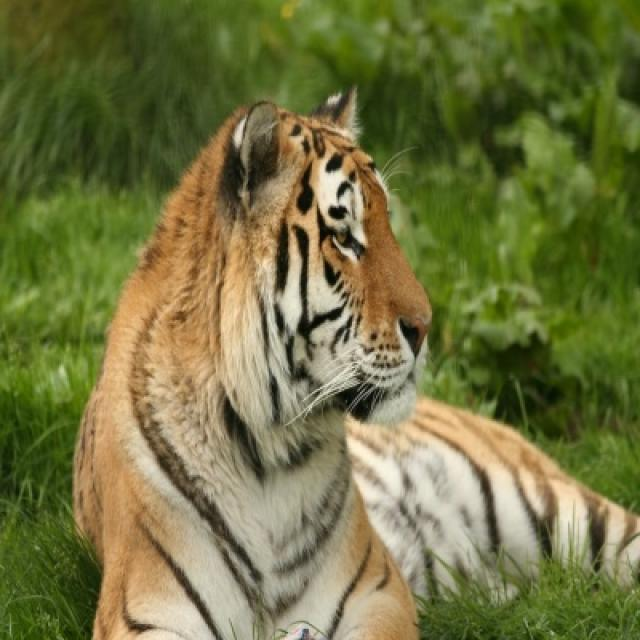Tiger: (72, 81, 638, 638)
